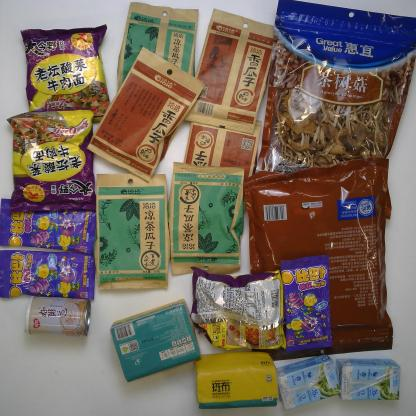Candy: (278, 252, 337, 354), (1, 195, 98, 256), (1, 248, 97, 302)
Canned Food: (23, 292, 93, 340)
Dried Food: (240, 156, 397, 363), (252, 1, 413, 182), (84, 44, 208, 184), (180, 6, 278, 137), (92, 171, 172, 293), (166, 160, 246, 277), (182, 114, 264, 221), (115, 2, 200, 102)
Instant Noodles: (5, 108, 101, 214), (19, 23, 112, 123), (186, 265, 288, 352)
Milk: (272, 353, 343, 411), (334, 356, 402, 402)
Tissue: (109, 298, 205, 386), (191, 348, 281, 412)
